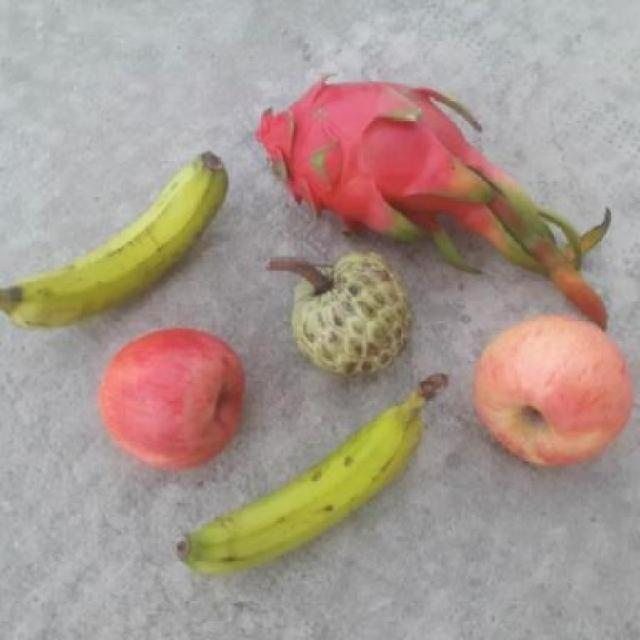apple: (465, 312, 634, 477), (96, 327, 250, 475)
banana: (165, 370, 454, 582), (1, 151, 230, 335)
dragon fruit: (249, 76, 500, 253)
sugar apple: (288, 253, 415, 379)
